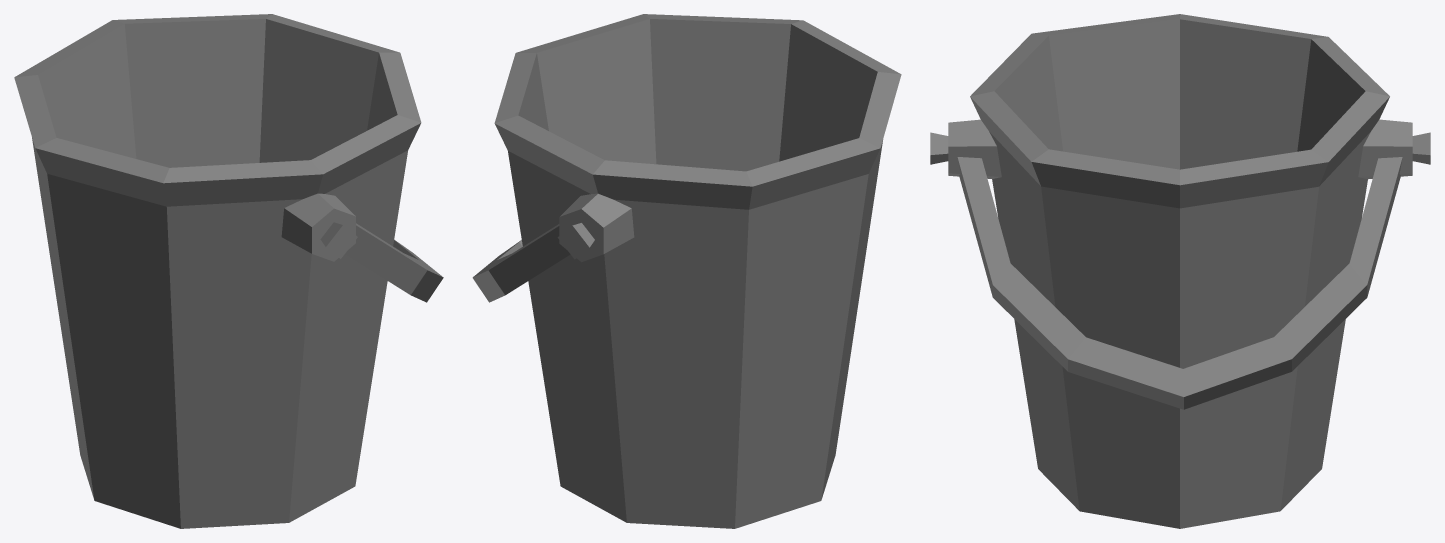
File: Iron_Bucket.gltf
3 renders of one model, left to right at view 1: azimuth 30°, elevation 25°; view 2: azimuth 150°, elevation 25°; view 3: azimuth 270°, elevation 25°, orthographic.
Parts seen in each view (by area): view 1: Iron_Bucket2; view 2: Iron_Bucket2; view 3: Iron_Bucket2.
Boxes of the visible parts, box(x1,y1,x2,y2) form: Iron_Bucket2: box(14, 14, 443, 528); Iron_Bucket2: box(472, 14, 901, 528); Iron_Bucket2: box(930, 14, 1430, 528).
Bounding box in the file's own units: 0.1487 × 0.1417 × 0.1702.
Materials: 1 (1 with a texture image).
